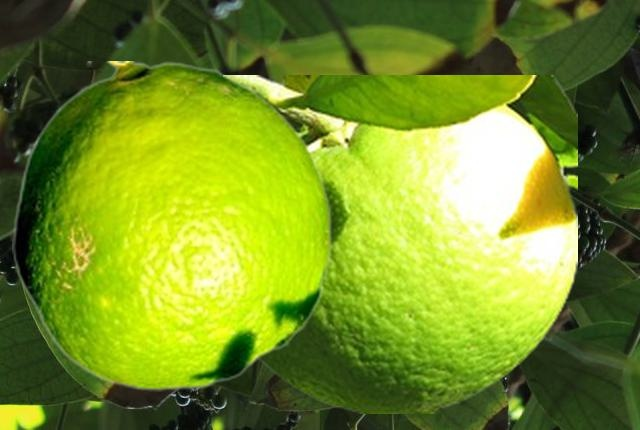dalandan: (229, 75, 576, 412), (12, 61, 331, 390)
